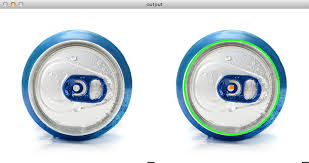can: (176, 27, 290, 157), (20, 23, 133, 145)
